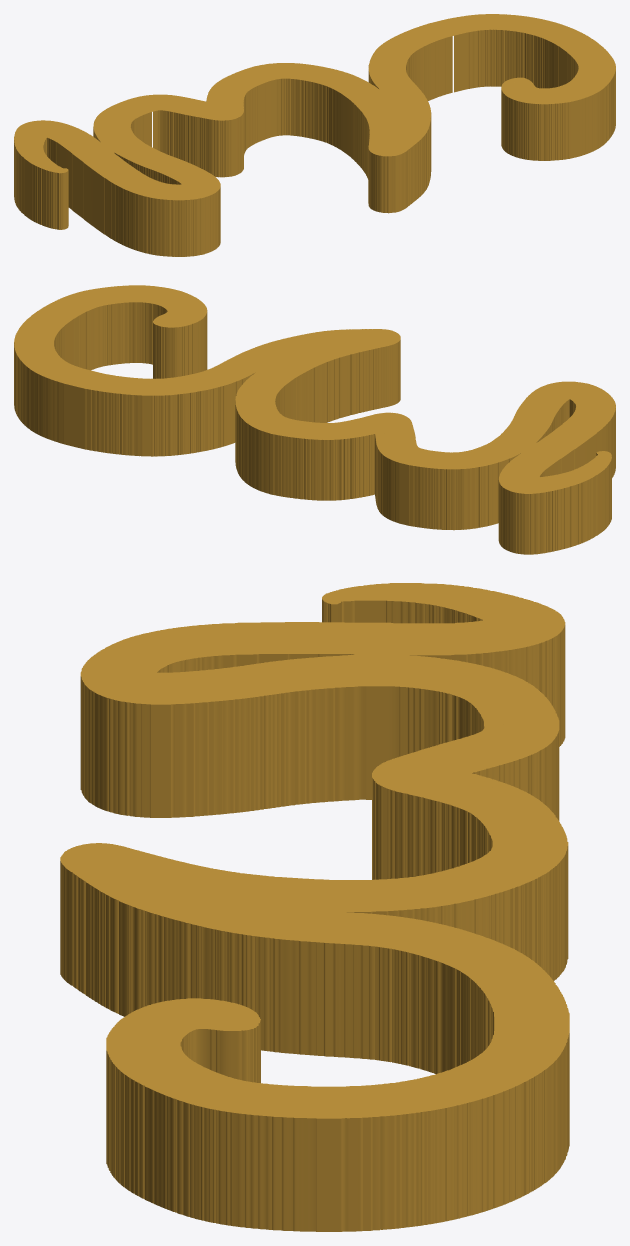
3 views of the same model, one above another, from view 1: azimuth 30°, elevation 25°; view 2: azimuth 150°, elevation 25°; view 3: azimuth 270°, elevation 25° (orthographic). The views are drawn at different scales.
Parts seen in each view (by area): view 1: Curve.017; view 2: Curve.017; view 3: Curve.017.
Boxes of the visible parts, x1=… form: Curve.017: x1=14, y1=14, x2=615, y2=256; Curve.017: x1=14, y1=285, x2=615, y2=554; Curve.017: x1=60, y1=583, x2=569, y2=1231.
Size of the model in its own units: 106 by 10.5 by 42.71.
